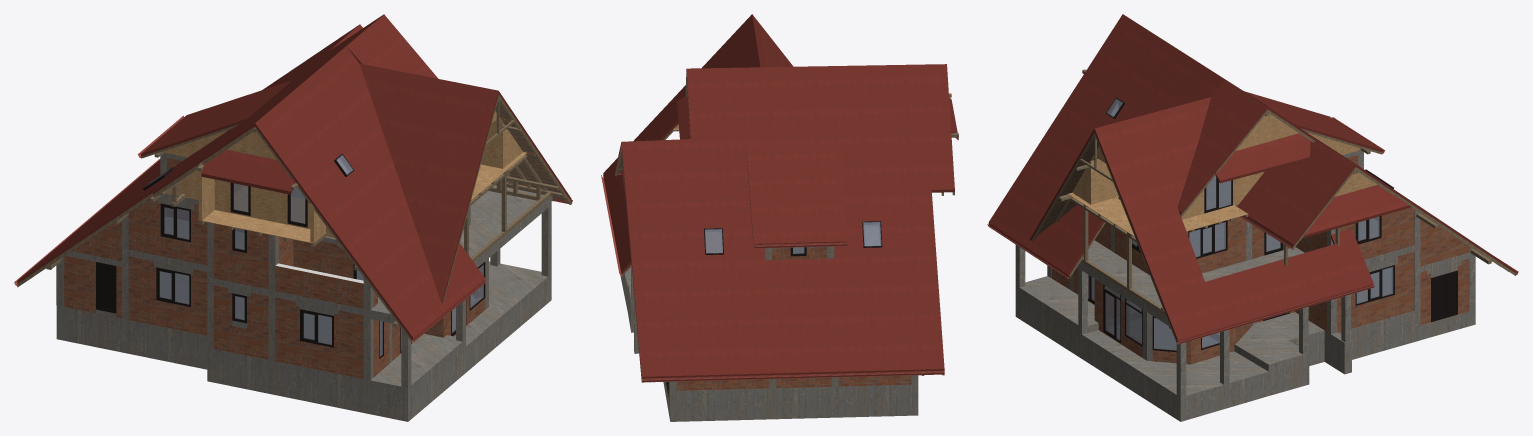
Rendered from bim_-_cosari_romania.glb.
3 renders of one model, left to right at view 1: azimuth 30°, elevation 25°; view 2: azimuth 150°, elevation 25°; view 3: azimuth 270°, elevation 25°, orthographic. The views are drawn at different scales.
Parts seen in each view (by area): view 1: Object_2, Object_4, Object_6, Object_5, Object_11, Object_10, Object_7, Object_9, Object_13, Object_12, Object_3; view 2: Object_2, Object_6, Object_4, Object_3, Object_9, Object_7, Object_10, Object_13, Object_5; view 3: Object_2, Object_6, Object_4, Object_5, Object_11, Object_7, Object_9, Object_10, Object_13, Object_3, Object_12.
Part boxes in pixels (<box>): Object_2: <box>17,14,571,340</box>; Object_4: <box>63,158,485,378</box>; Object_6: <box>56,152,551,421</box>; Object_5: <box>160,159,547,386</box>; Object_11: <box>164,111,526,243</box>; Object_10: <box>17,94,571,341</box>; Object_7: <box>56,156,551,387</box>; Object_9: <box>147,155,483,356</box>; Object_13: <box>96,154,485,358</box>; Object_12: <box>495,102,565,200</box>; Object_3: <box>14,115,572,342</box>; Object_2: <box>603,14,958,378</box>; Object_6: <box>620,225,918,421</box>; Object_4: <box>666,232,911,402</box>; Object_3: <box>601,173,944,382</box>; Object_9: <box>705,222,881,253</box>; Object_7: <box>631,246,918,407</box>; Object_10: <box>615,72,958,382</box>; Object_13: <box>666,221,882,396</box>; Object_5: <box>625,227,879,322</box>; Object_2: <box>988,14,1515,342</box>; Object_6: <box>1015,150,1475,421</box>; Object_4: <box>1051,155,1471,364</box>; Object_5: <box>1020,176,1391,395</box>; Object_11: <box>1068,104,1376,236</box>; Object_7: <box>1015,153,1475,397</box>; Object_9: <box>1088,98,1393,350</box>; Object_10: <box>1031,69,1515,344</box>; Object_13: <box>1088,97,1457,352</box>; Object_3: <box>987,117,1518,344</box>; Object_12: <box>1038,139,1098,234</box>.
Size of the model in its own units: 20.24 by 11.65 by 21.48.
Materials: 12 (9 with a texture image).
